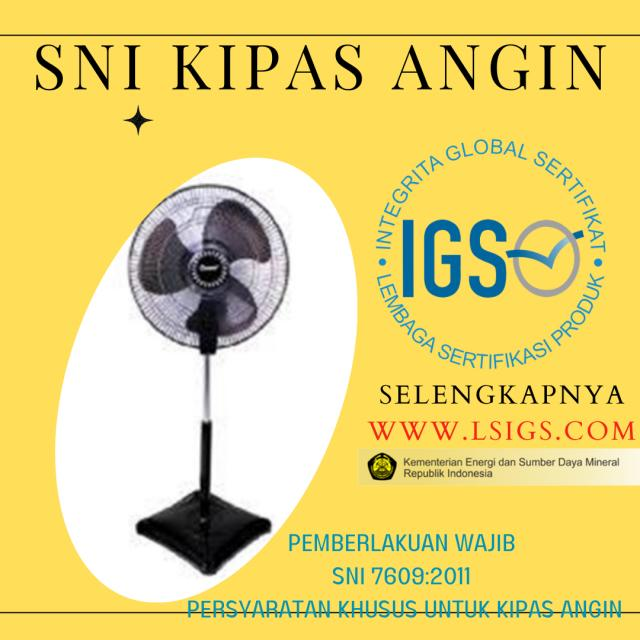fan: (131, 182, 295, 582)
